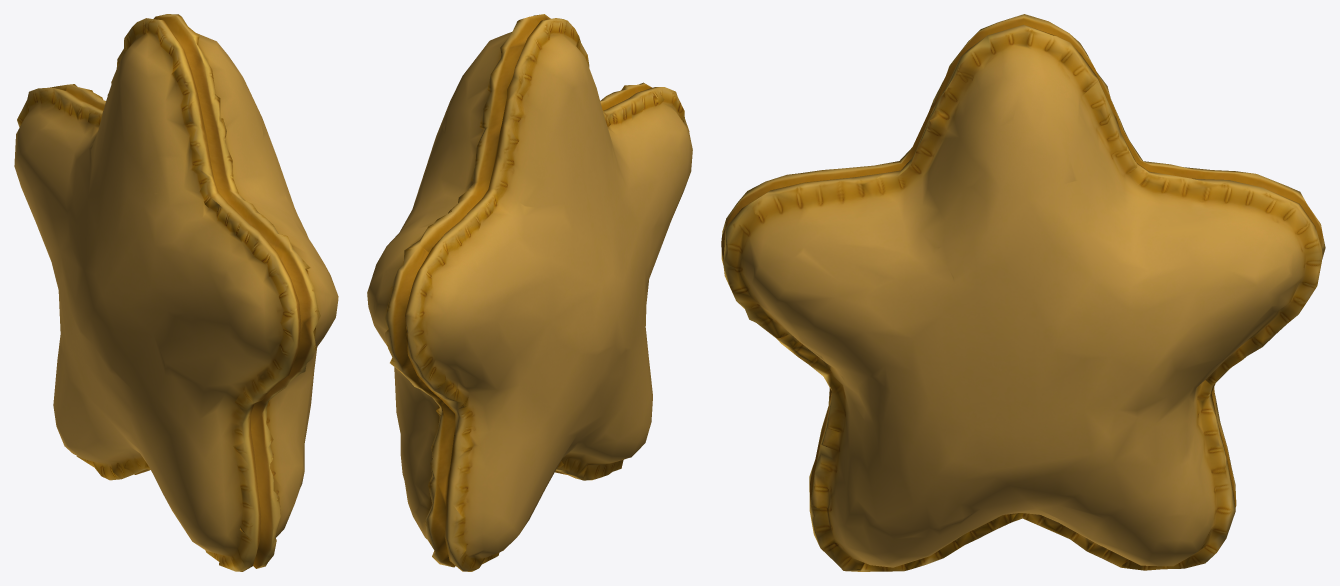
The model's file is prop_star.glb.
3 views of the same model, side by side, from view 1: azimuth 30°, elevation 25°; view 2: azimuth 150°, elevation 25°; view 3: azimuth 270°, elevation 25° (orthographic). The views are drawn at different scales.
Parts seen in each view (by area): view 1: tripo_node_34a1858d-7148-45d2-922b-e4c0f8a572cd; view 2: tripo_node_34a1858d-7148-45d2-922b-e4c0f8a572cd; view 3: tripo_node_34a1858d-7148-45d2-922b-e4c0f8a572cd.
Boxes of the visible parts, box(x1,y1,x2,y2) form: tripo_node_34a1858d-7148-45d2-922b-e4c0f8a572cd: box(14, 14, 338, 571); tripo_node_34a1858d-7148-45d2-922b-e4c0f8a572cd: box(367, 14, 692, 571); tripo_node_34a1858d-7148-45d2-922b-e4c0f8a572cd: box(721, 14, 1325, 571).
Size of the model in its own units: 0.3888 by 1 by 0.9975.
Materials: 1 (1 with a texture image).
